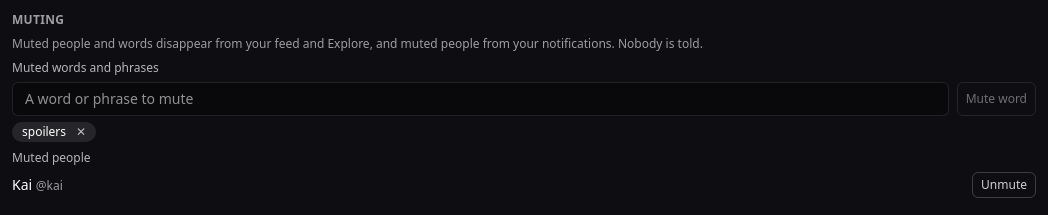
Scenario: MuteSettings › adds a word, saving the whole list and showing it as kept
This screenshot has width=1048, height=215.
Check: the text "spoilers" is shown, box [22,124,66,140]
Step 1. Type "  Season Finale " into the field labelled "A word or phrase to mute" → (480, 99), box [12,82,949,116]
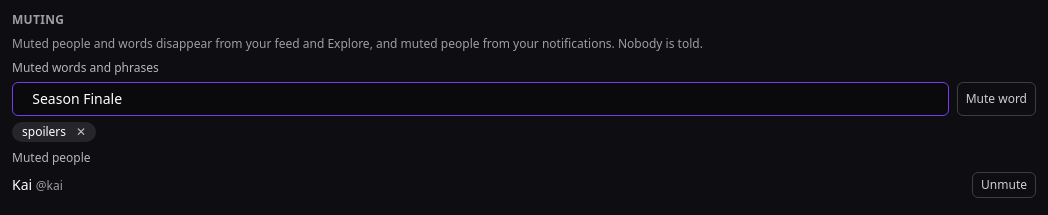
Step 2. Click the button "Mute word" → (996, 99), box [957,82,1036,116]
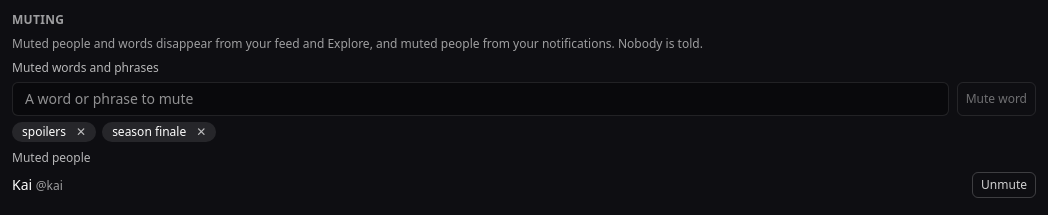
Check: the text "season finale" is shown, box [112,124,186,140]
Check: the field labelled "A word or phrase to mute" is empty, box [12,82,949,116]
